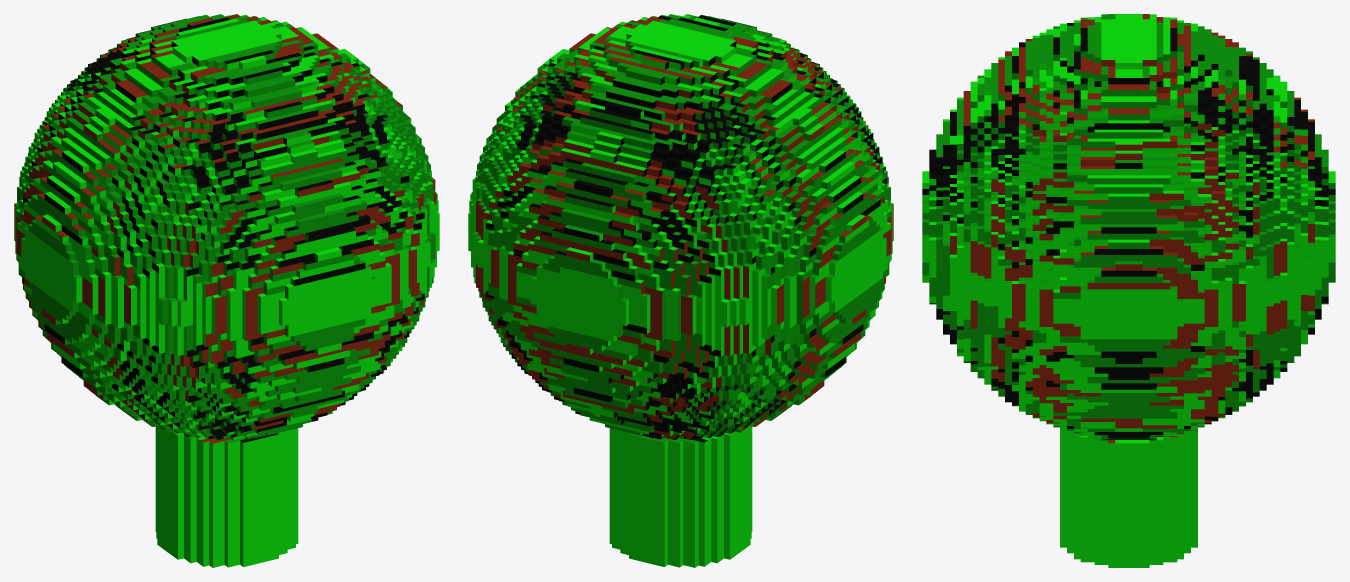
Rendered from Arbol1.fbx.
3 views of the same model, side by side, from view 1: azimuth 30°, elevation 25°; view 2: azimuth 150°, elevation 25°; view 3: azimuth 270°, elevation 25° (orthographic).
Visible parts, largest first — view 1: Arbol1; view 2: Arbol1; view 3: Arbol1.
Part boxes in pixels (x1,y1,x2,y2): Arbol1: (14,14,439,567); Arbol1: (468,14,893,567); Arbol1: (922,14,1335,567).
Bounding box in the file's own units: 60 × 80 × 60.
